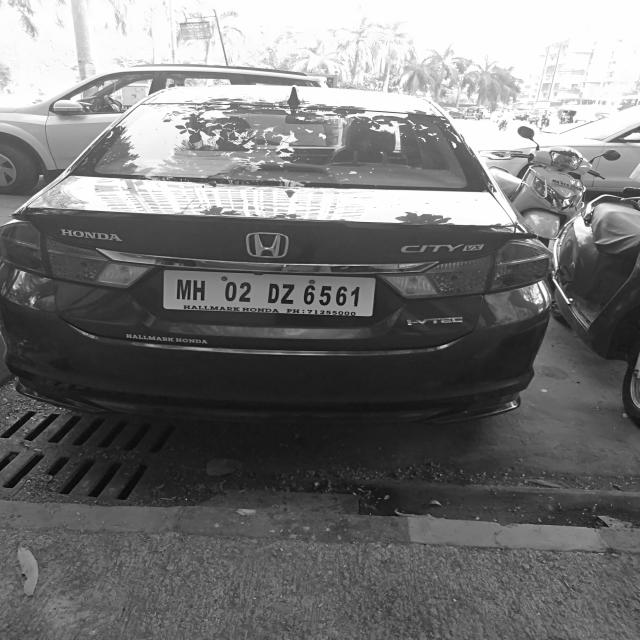car: (0, 85, 566, 428), (0, 65, 357, 182)
license-plate: (166, 266, 380, 323)
